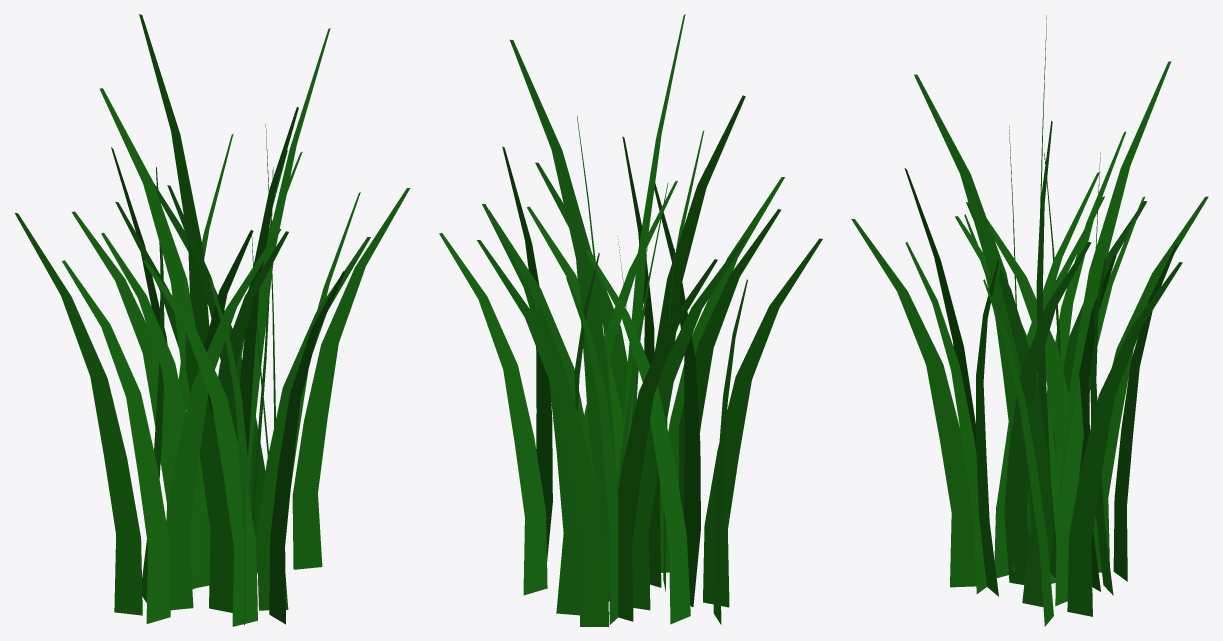
The model's file is Tuft of grass.obj.
3 renders of one model, left to right at view 1: azimuth 30°, elevation 25°; view 2: azimuth 150°, elevation 25°; view 3: azimuth 270°, elevation 25°, orthographic. The views are drawn at different scales.
Visible parts, largest first — view 1: Plane026, Plane017, Plane019, Plane023, Plane025, Plane007, Plane004, Plane021, Plane008, Plane010, Plane003, Plane029 (+12 smaller); view 2: Plane011, Plane005, Plane015, Plane025, Plane010, Plane024, Plane029, Plane013, Plane023, Plane004, Plane028, Plane017 (+12 smaller); view 3: Plane021, Plane015, Plane009, Plane016, Plane002, Plane003, Plane014, Plane011, Plane008, Plane028, Plane020, Plane012 (+10 smaller).
Boxes of the visible parts, left/top/right/bottom form: Plane026: left=14, top=213, right=142, bottom=615; Plane017: left=292, top=188, right=410, bottom=569; Plane019: left=143, top=260, right=257, bottom=626; Plane023: left=166, top=229, right=281, bottom=610; Plane025: left=62, top=260, right=170, bottom=623; Plane007: left=115, top=201, right=233, bottom=612; Plane004: left=99, top=88, right=210, bottom=588; Plane021: left=269, top=271, right=345, bottom=624; Plane008: left=256, top=237, right=370, bottom=610; Plane010: left=71, top=211, right=174, bottom=515; Plane003: left=139, top=14, right=209, bottom=345; Plane029: left=101, top=232, right=194, bottom=589; Plane011: left=477, top=240, right=609, bottom=626; Plane005: left=510, top=39, right=616, bottom=563; Plane015: left=439, top=233, right=547, bottom=595; Plane025: left=703, top=238, right=822, bottom=607; Plane010: left=609, top=259, right=717, bottom=621; Plane024: left=585, top=249, right=690, bottom=624; Plane029: left=632, top=238, right=746, bottom=610; Plane013: left=482, top=204, right=581, bottom=615; Plane023: left=654, top=183, right=700, bottom=606; Plane004: left=648, top=95, right=745, bottom=587; Plane028: left=566, top=276, right=618, bottom=624; Plane017: left=502, top=146, right=552, bottom=561; Plane021: left=851, top=219, right=976, bottom=587; Plane015: left=1067, top=262, right=1182, bottom=616; Plane009: left=1004, top=242, right=1091, bottom=584; Plane016: left=966, top=202, right=1053, bottom=606; Plane002: left=914, top=74, right=1030, bottom=571; Plane003: left=1059, top=61, right=1171, bottom=504; Plane014: left=1055, top=196, right=1145, bottom=606; Plane011: left=1113, top=245, right=1177, bottom=581; Plane008: left=905, top=242, right=986, bottom=593; Plane028: left=1093, top=196, right=1208, bottom=572; Plane020: left=976, top=260, right=999, bottom=596; Plane012: left=987, top=219, right=1068, bottom=477.
Size of the model in its own units: 239 by 364 by 231.
